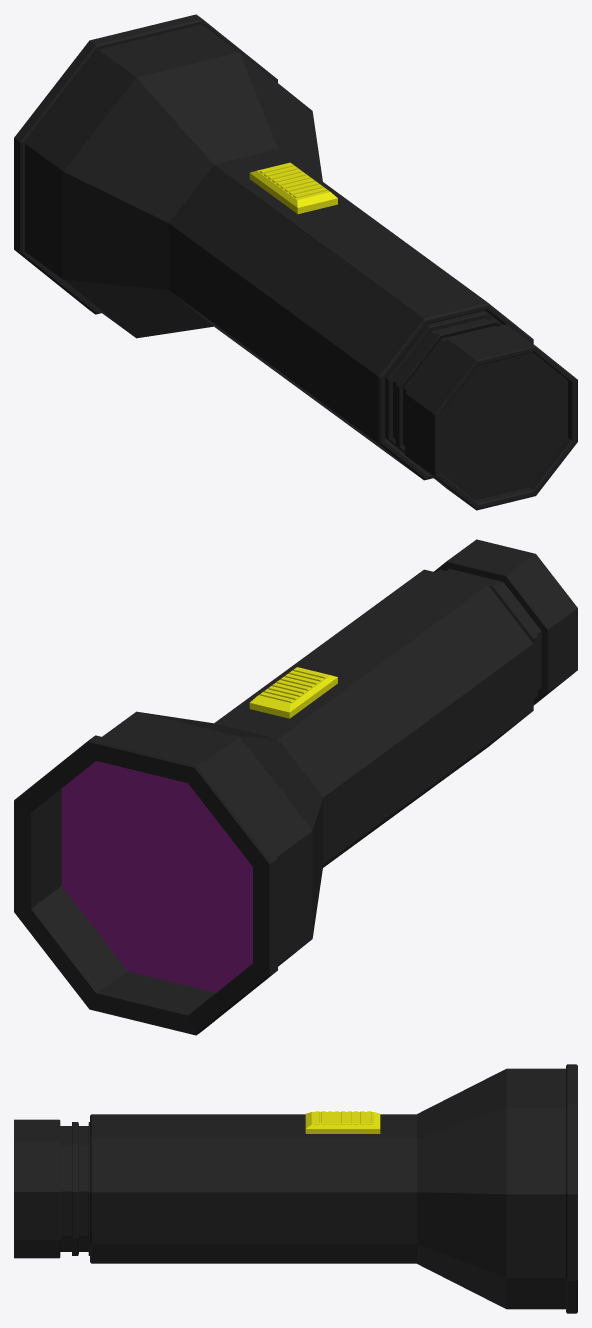
Rendered from uv_flashlight.fbx.
3 renders of one model, top to bottom at view 1: azimuth 30°, elevation 25°; view 2: azimuth 150°, elevation 25°; view 3: azimuth 270°, elevation 25°, orthographic. The views are drawn at different scales.
Parts seen in each view (by area): view 1: Cube; view 2: Cube; view 3: Cube.
Boxes of the visible parts, x1,y1,x2,y2 form: Cube: (14,14,577,510); Cube: (14,539,577,1035); Cube: (14,1064,577,1313).
Bounding box in the file's own units: 9.23 × 9.23 × 22.6.
